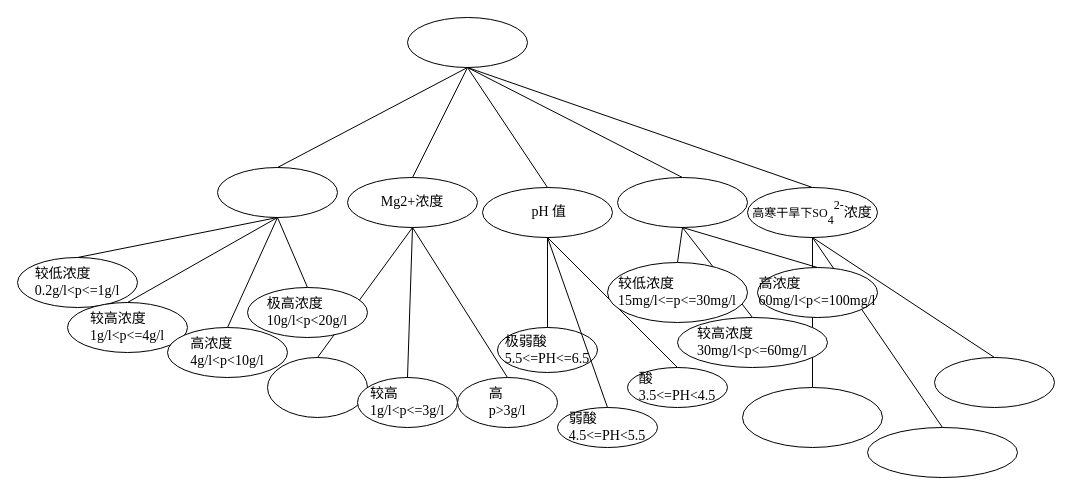
Some shapes in this 1072 by 495 pixel diagram are drawn without their labels. Each missing label, with the box of its shape:
CO2浓度: (616, 176, 748, 228)
SO 4 2- 浓度: (216, 166, 338, 218)
Ⅵ 子类: (406, 16, 528, 68)
较低 0.3g/l<p<=1g/l: (266, 356, 368, 418)
较低浓度 0.2g/l<=p<=0.5mg/l: (742, 386, 882, 448)
较高浓度 0.5g/l<p<=2g/l: (866, 426, 1018, 478)
高浓度 2g/l<p<=5g/l: (934, 356, 1054, 408)
